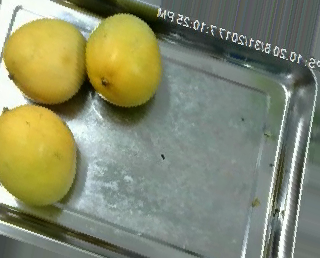Mango: (0, 104, 79, 207), (0, 12, 84, 106), (84, 12, 162, 105)
